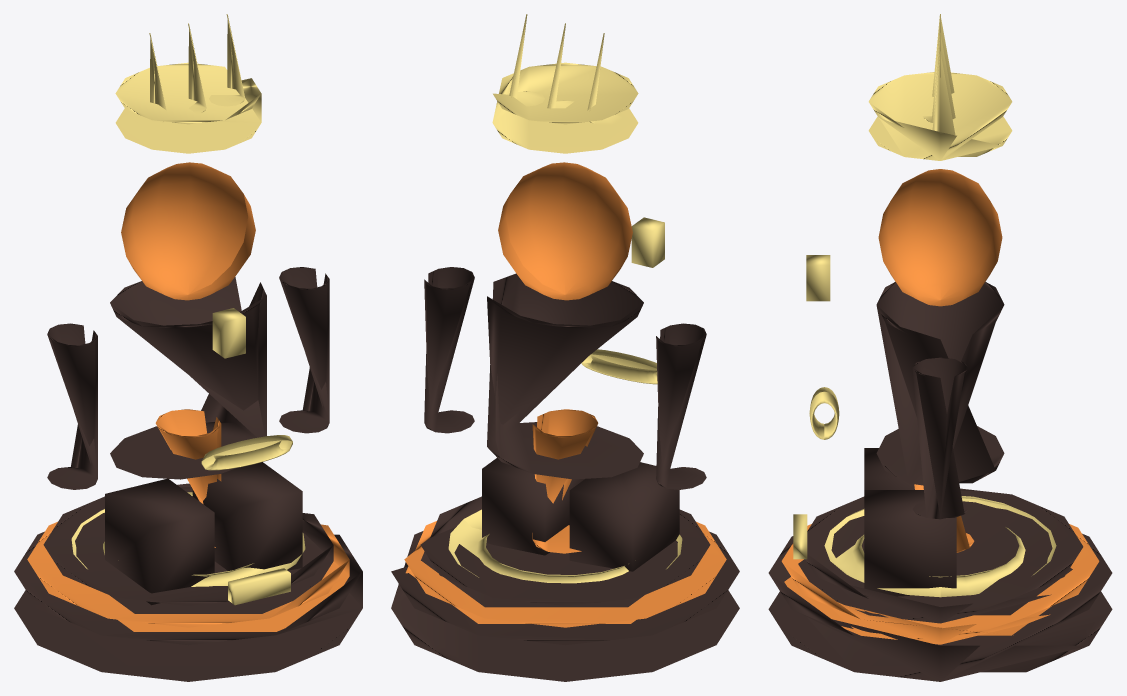
Rendered from anointed.glb.
The picture shows the model from 3 angles, left to right: view 1: azimuth 30°, elevation 25°; view 2: azimuth 150°, elevation 25°; view 3: azimuth 270°, elevation 25°; orthographic projection.
Visible parts, largest first — view 1: anointed_#3B2B27, anointed_#FB923C, anointed_#FDE68A; view 2: anointed_#3B2B27, anointed_#FB923C, anointed_#FDE68A; view 3: anointed_#3B2B27, anointed_#FB923C, anointed_#FDE68A.
Part boxes in pixels (x1,y1,x2,y2): anointed_#3B2B27: (14,267,362,681); anointed_#FB923C: (27,162,349,631); anointed_#FDE68A: (71,14,305,605); anointed_#3B2B27: (391,267,739,681); anointed_#FB923C: (404,162,726,627); anointed_#FDE68A: (448,14,682,583); anointed_#3B2B27: (768,282,1112,681); anointed_#FB923C: (781,169,1099,644); anointed_#FDE68A: (793,14,1056,597).
Size of the model in its own units: 1.72 by 3.18 by 1.72.
